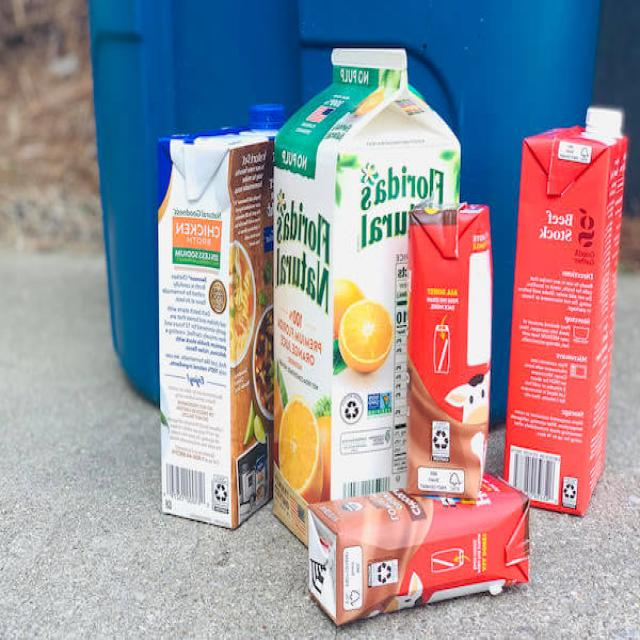cardboard: (272, 46, 460, 526), (152, 104, 284, 526), (504, 102, 627, 514), (299, 473, 536, 625), (404, 201, 496, 496)
